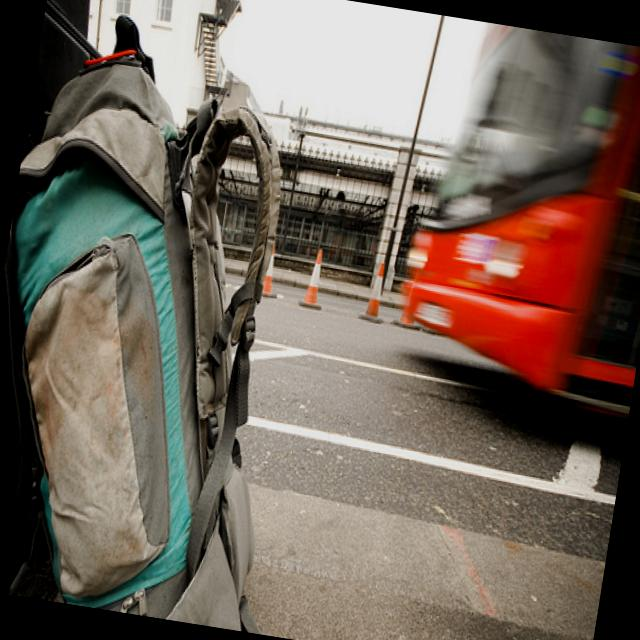Vehicle: (379, 15, 640, 419)
